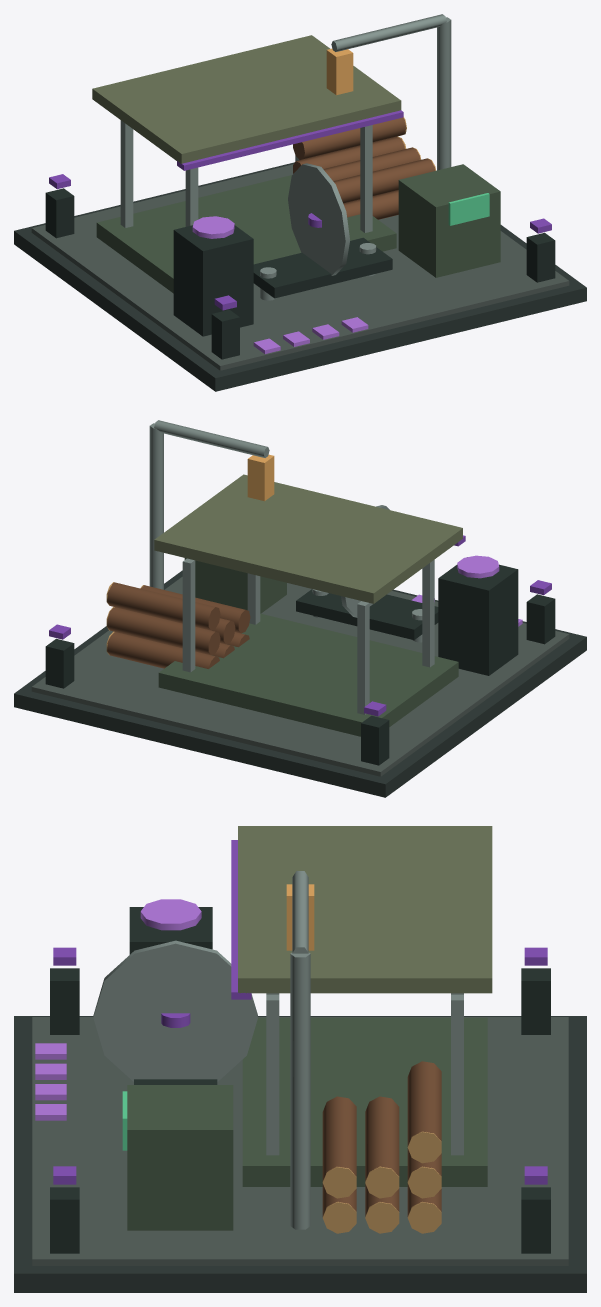
File: timberline_l04.glb
The picture shows the model from 3 angles, top to bottom: view 1: azimuth 30°, elevation 25°; view 2: azimuth 150°, elevation 25°; view 3: azimuth 270°, elevation 25°; orthographic projection. The views are drawn at different scales.
Visible parts, largest first — view 1: timberline_l04; view 2: timberline_l04; view 3: timberline_l04.
Part boxes in pixels (x1,y1,x2,y2): timberline_l04: (14,14,586,391); timberline_l04: (14,420,586,797); timberline_l04: (14,826,586,1292).
Size of the model in its own units: 6.6 by 3.78 by 6.2.
